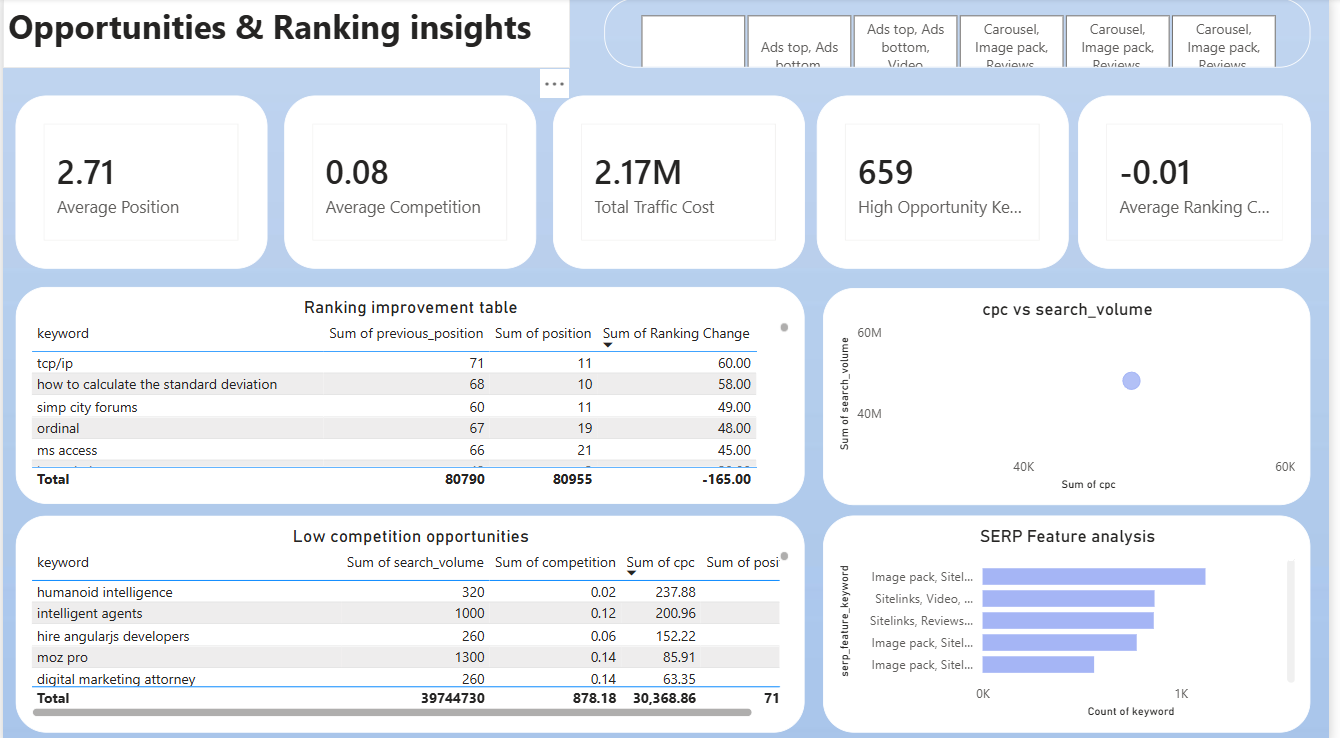

This screenshot's page, from the dashboard's own definition file:
{"tool":"powerbi","page":{"name":"SEO Opportunities","canvas":[1280,720],"ordinal":1},"visuals":[{"type":"textbox","box":[0,0,547.5,67.2],"z":0},{"type":"cardVisual","fields":{"Data":["DAX.Average Position"]},"box":[12.3,94.7,242.9,167.4],"z":1000},{"type":"cardVisual","fields":{"Data":["DAX.Average Competition"]},"box":[271.7,94.7,242.9,167.4],"z":2000},{"type":"cardVisual","fields":{"Data":["DAX.Total Traffic Cost"]},"box":[531,94.7,242.9,167.4],"z":3000},{"type":"cardVisual","fields":{"Data":["DAX.High Opportunity Keywords"]},"box":[784.9,94.7,242.9,167.4],"z":4000},{"type":"cardVisual","fields":{"Data":["DAX.Average Ranking Change"]},"box":[1037.4,94.7,225,167.4],"z":5000},{"type":"tableEx","title":"Ranking improvement table","fields":{"Values":["public main_traffic_data.keyword","Sum(public main_traffic_data.previous_position)","Sum(public main_traffic_data.position)","Sum(public main_traffic_data.Ranking Change)"]},"box":[12.3,278.6,761.6,209.9],"z":6000},{"type":"tableEx","title":"Low competition opportunities","fields":{"Values":["public main_traffic_data.keyword","Sum(public main_traffic_data.search_volume)","Sum(public main_traffic_data.competition)","Sum(public main_traffic_data.cpc)","Sum(public main_traffic_data.position)"]},"box":[12.3,499.5,761.6,209.9],"z":7000},{"type":"scatterChart","title":"cpc vs search_volume","fields":{"X":["Sum(public main_traffic_data.cpc)"],"Y":["Sum(public main_traffic_data.search_volume)"],"Size":["Sum(public main_traffic_data.traffic)"]},"box":[791.8,279.9,470.7,209.9],"z":8000},{"type":"clusteredBarChart","title":"SERP Feature analysis","fields":{"Category":["public main_traffic_data.serp_feature_keyword"],"Y":["CountNonNull(public main_traffic_data.keyword)"]},"box":[791.8,499.5,470.7,209.9],"z":9000},{"type":"slicer","fields":{"Values":["public main_traffic_data.serp_feature_keyword"]},"box":[580.4,0,682,67.2],"z":10000}]}

Visuals, with their boxes in screenshot pixels (x1, y1, x2, y2), scaled from the page's 1280x720 canvas onto the 1340x738 screenshot:
textbox: 0,0,573,69
cardVisual - DAX.Average Position: 13,97,267,269
cardVisual - DAX.Average Competition: 284,97,539,269
cardVisual - DAX.Total Traffic Cost: 556,97,810,269
cardVisual - DAX.High Opportunity Keywords: 822,97,1076,269
cardVisual - DAX.Average Ranking Change: 1086,97,1322,269
"Ranking improvement table" tableEx: 13,286,810,501
"Low competition opportunities" tableEx: 13,512,810,727
"cpc vs search_volume" scatterChart: 829,287,1322,502
"SERP Feature analysis" clusteredBarChart: 829,512,1322,727
slicer - public main_traffic_data.serp_feature_keyword: 608,0,1322,69
